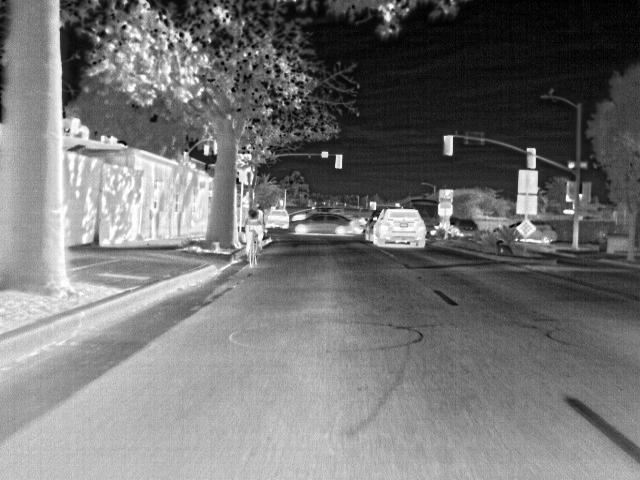car: (361, 207, 428, 250), (284, 212, 356, 237), (267, 209, 291, 230), (451, 216, 478, 234)
person: (247, 200, 268, 246)
